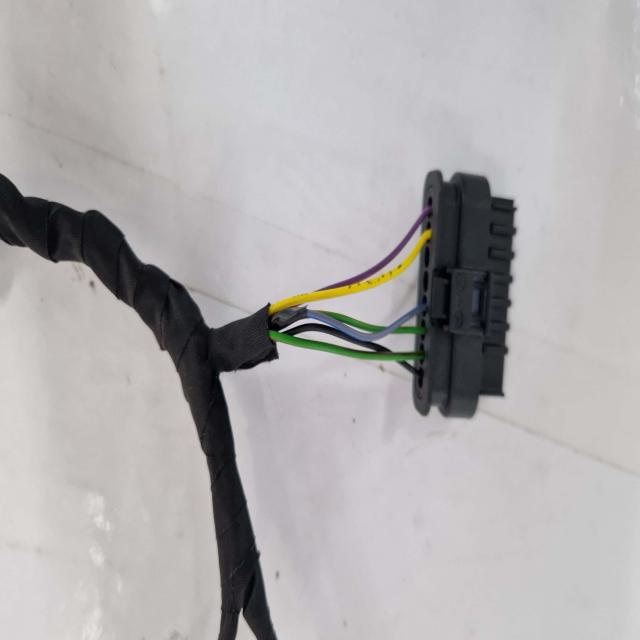Connector: (411, 175, 516, 428)
Gape: (265, 203, 435, 379)
MHEV_N11_Cable: (23, 198, 278, 640)
